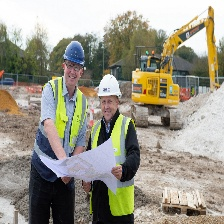helmet: (97, 73, 123, 103), (60, 40, 87, 68)
person: (30, 38, 90, 224), (87, 74, 141, 224)
vest: (93, 116, 138, 214), (54, 78, 85, 158)
